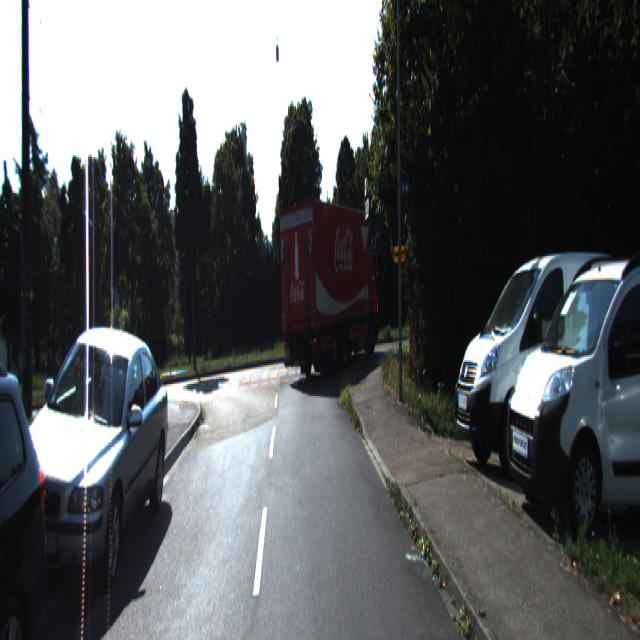Car: (5, 315, 175, 622), (450, 244, 639, 490), (500, 246, 639, 548), (274, 190, 379, 382), (0, 326, 59, 638)
